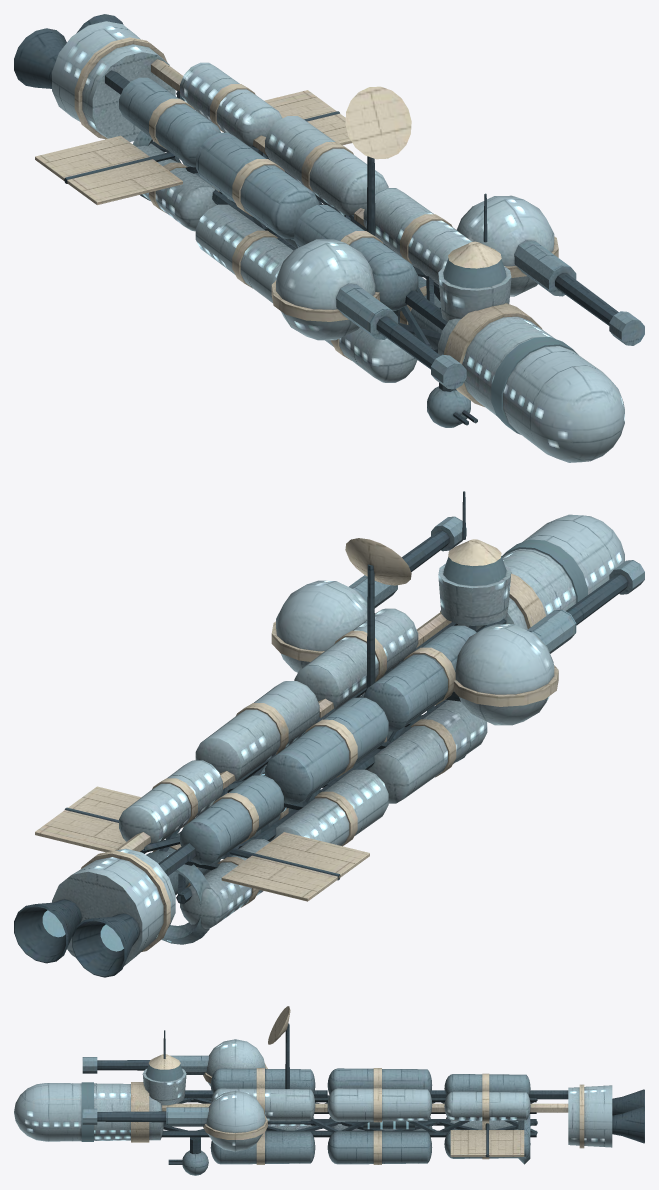
File: pell_frigate.glb
3 views of the same model, one above another, from view 1: azimuth 30°, elevation 25°; view 2: azimuth 150°, elevation 25°; view 3: azimuth 270°, elevation 25° (orthographic). The views are drawn at different scales.
Parts seen in each view (by area): view 1: HULL, SYS_WPN2, SYS_DRIVE, SYS_WPN1, SYS_BRIDGE, SYS_SENSORS, SYS_PD, SYS_BUS_A, SYS_BUS_F; view 2: HULL, SYS_DRIVE, SYS_WPN2, SYS_WPN1, SYS_BRIDGE, SYS_SENSORS, SYS_JUMP, SYS_BUS_A, SYS_BUS_F; view 3: HULL, SYS_WPN1, SYS_DRIVE, SYS_WPN2, SYS_BRIDGE, SYS_BUS_A, SYS_PD, SYS_SENSORS, SYS_BUS_F, SYS_REACTOR, SYS_JUMP.
Part boxes in pixels (left/top/right/bottom): HULL: left=35, top=62, right=624, bottom=462; SYS_WPN2: left=271, top=239, right=466, bottom=389; SYS_DRIVE: left=14, top=14, right=175, bottom=141; SYS_WPN1: left=434, top=195, right=644, bottom=345; SYS_BRIDGE: left=438, top=193, right=511, bottom=321; SYS_SENSORS: left=345, top=86, right=411, bottom=235; SYS_PD: left=427, top=382, right=477, bottom=427; SYS_BUS_A: left=105, top=59, right=266, bottom=155; SYS_BUS_F: left=354, top=208, right=447, bottom=329; HULL: left=35, top=514, right=624, bottom=928; SYS_DRIVE: left=14, top=848, right=175, bottom=977; SYS_WPN2: left=446, top=560, right=644, bottom=725; SYS_WPN1: left=271, top=516, right=466, bottom=672; SYS_BRIDGE: left=438, top=491, right=511, bottom=625; SYS_SENSORS: left=345, top=538, right=411, bottom=689; SYS_JUMP: left=146, top=851, right=210, bottom=944; SYS_BUS_A: left=115, top=771, right=235, bottom=875; SYS_BUS_F: left=318, top=612, right=506, bottom=718; HULL: left=14, top=1068, right=537, bottom=1164; SYS_WPN1: left=82, top=1090, right=267, bottom=1151; SYS_DRIVE: left=568, top=1084, right=644, bottom=1148; SYS_WPN2: left=82, top=1039, right=267, bottom=1086; SYS_BRIDGE: left=142, top=1030, right=186, bottom=1105; SYS_BUS_A: left=430, top=1090, right=568, bottom=1112; SYS_PD: left=168, top=1137, right=208, bottom=1175; SYS_SENSORS: left=268, top=1006, right=290, bottom=1088; SYS_BUS_F: left=162, top=1090, right=327, bottom=1112; SYS_REACTOR: left=363, top=1121, right=414, bottom=1129; SYS_JUMP: left=518, top=1114, right=530, bottom=1164.
Bounding box in the file's own units: 9.1 × 8.93 × 30.7.
Materials: 1 (1 with a texture image).
